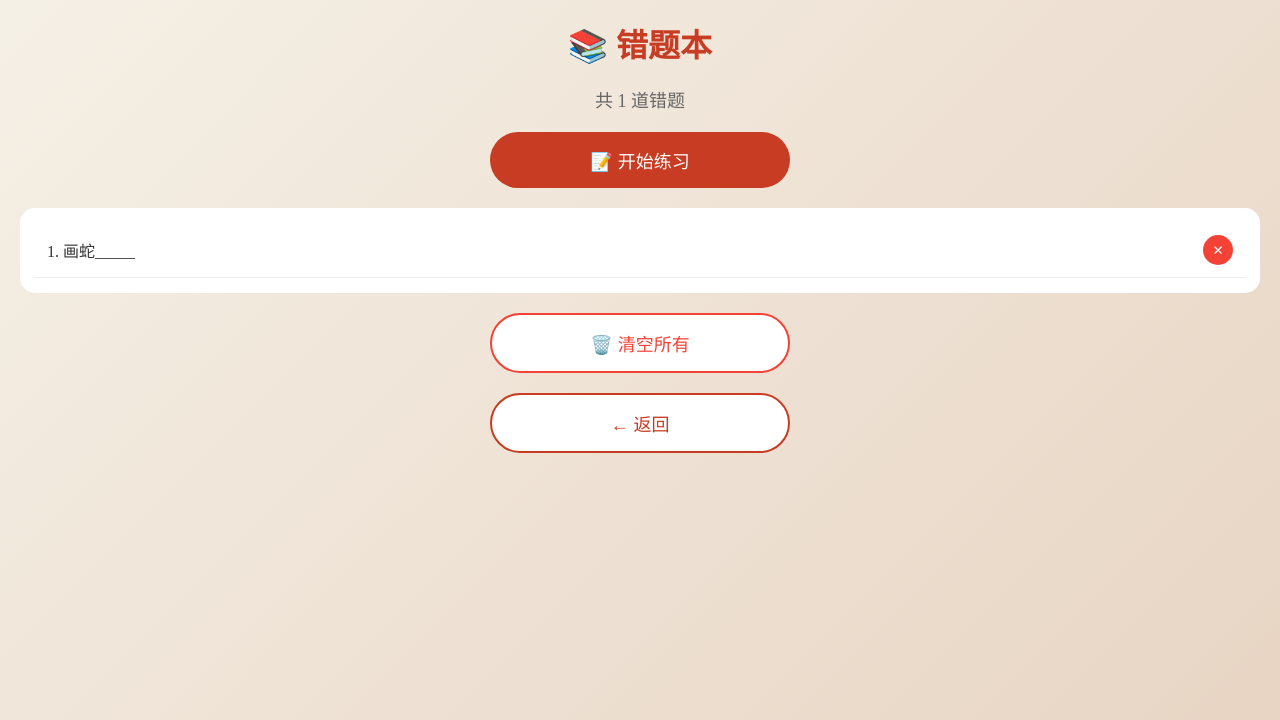
WrongWords page › Practice mode › should enter practice mode on button click
Click the button "📝 开始练习".
click(640, 160)  # box [490,132,790,188]
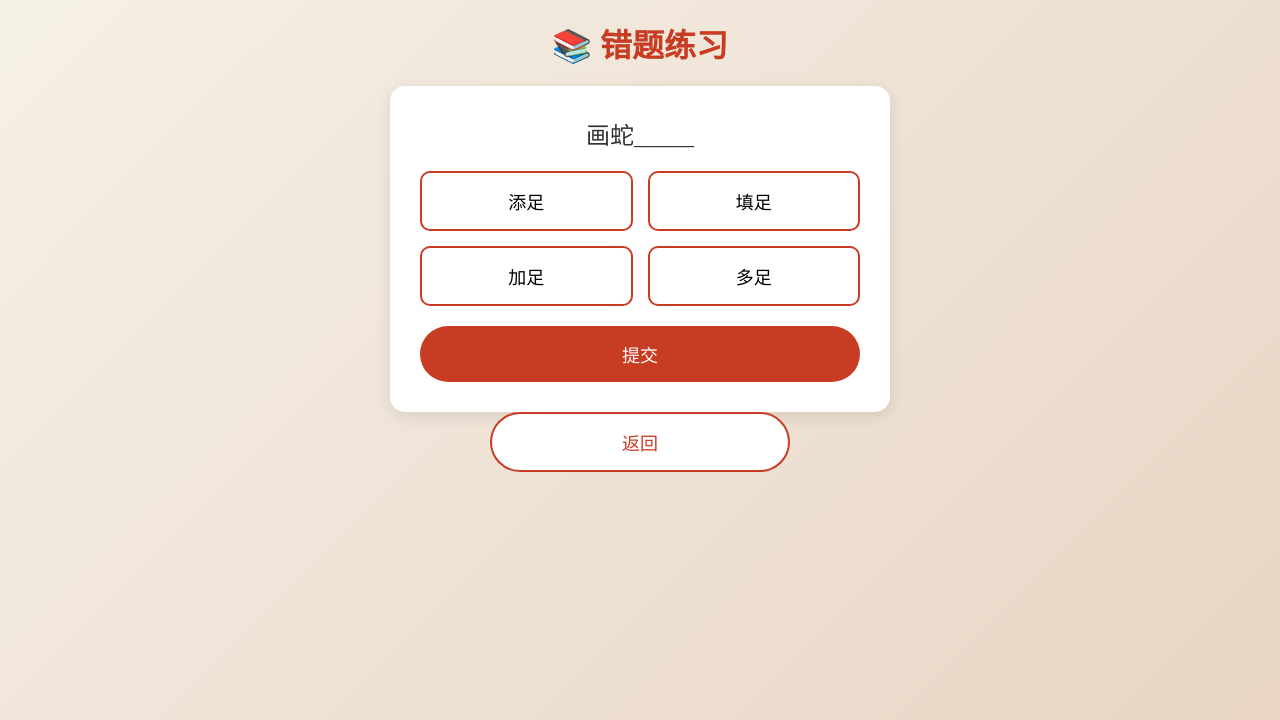
Now the heading "📚 错题练习" is shown, box [552,28,728,64]
